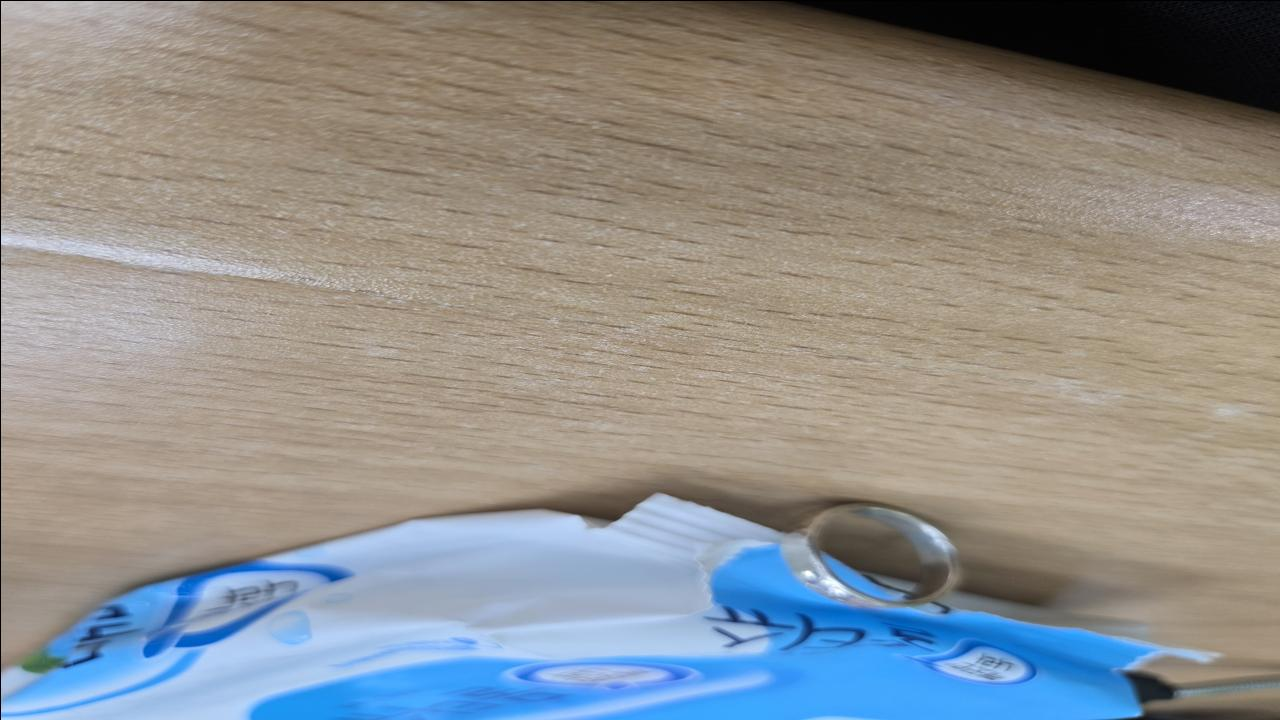ring: (782, 501, 960, 608)
